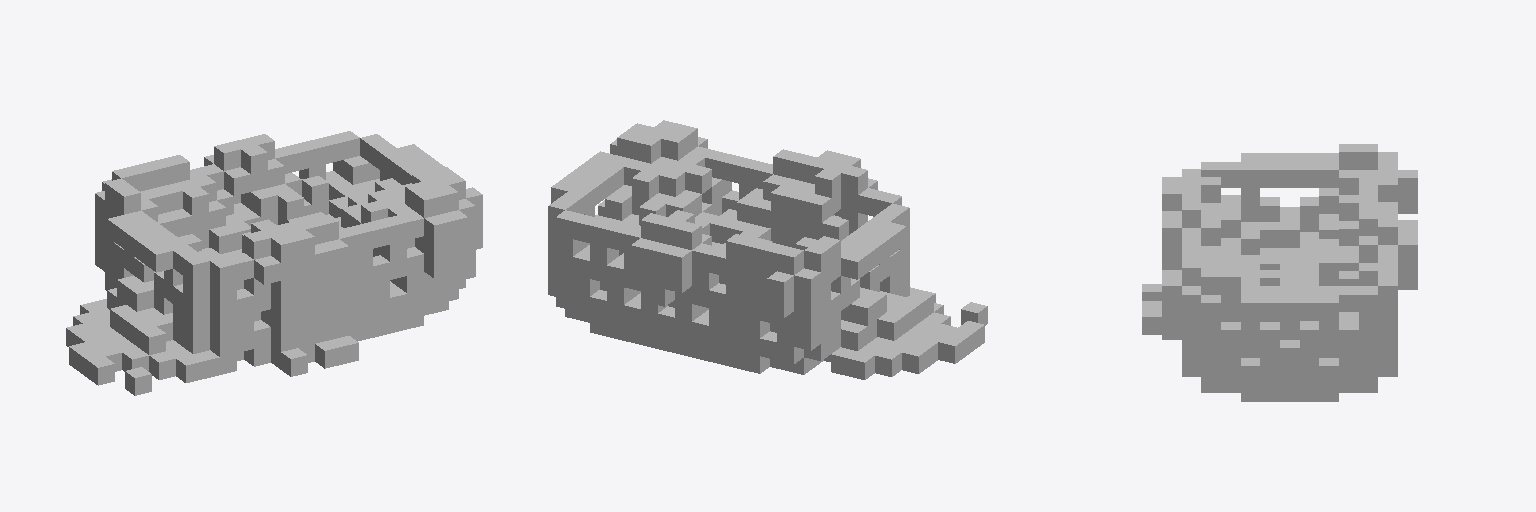
The model's file is Basket.obj.
The picture shows the model from 3 angles: view 1: azimuth 30°, elevation 25°; view 2: azimuth 150°, elevation 25°; view 3: azimuth 270°, elevation 25°; orthographic projection.
Visible parts, largest first — view 1: object 1; view 2: object 1; view 3: object 1.
Boxes of the visible parts, box(x1,y1,x2,y2) form: object 1: box(66, 131, 482, 395); object 1: box(548, 120, 987, 379); object 1: box(1142, 144, 1417, 401).
Bounding box in the file's own units: 2.2 × 0.7 × 1.4.